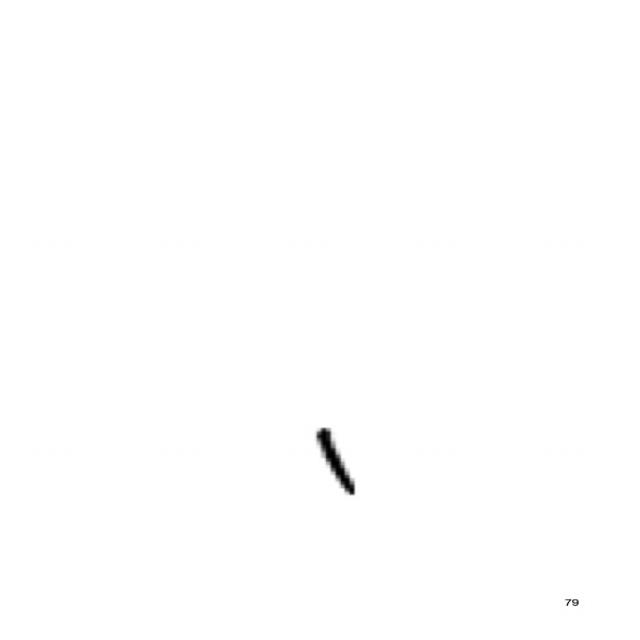1 -one-: (298, 418, 371, 508)
